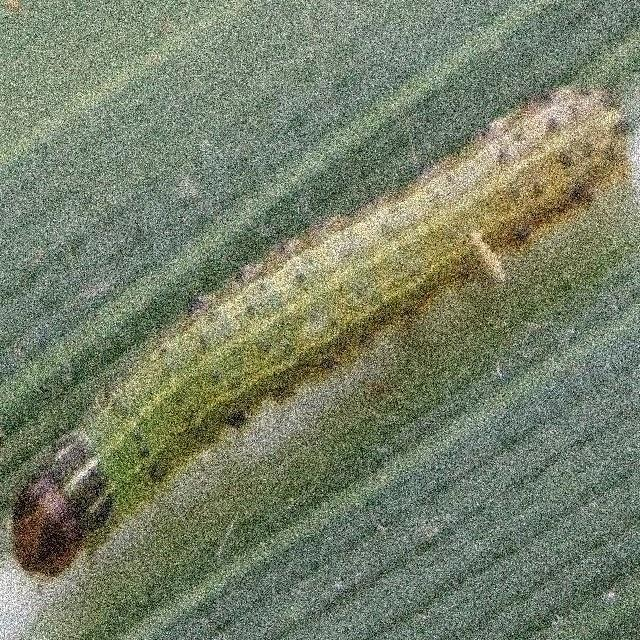worm: (9, 81, 631, 575), (9, 427, 115, 576)
